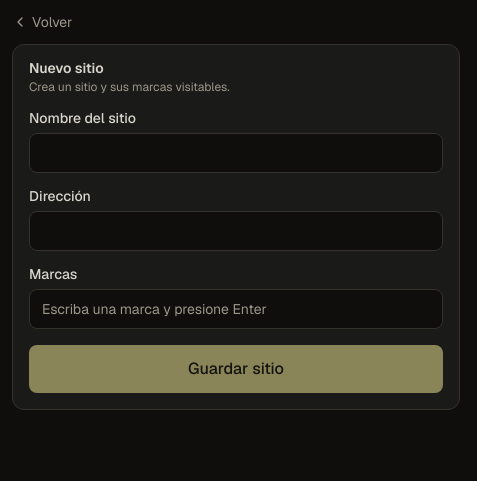
Test: CreateSiteForm › muestra el error devuelto por la acción
Type "Plaza Amara" into the field labelled "Nombre del sitio" at (236, 153), box [29,133,443,173]
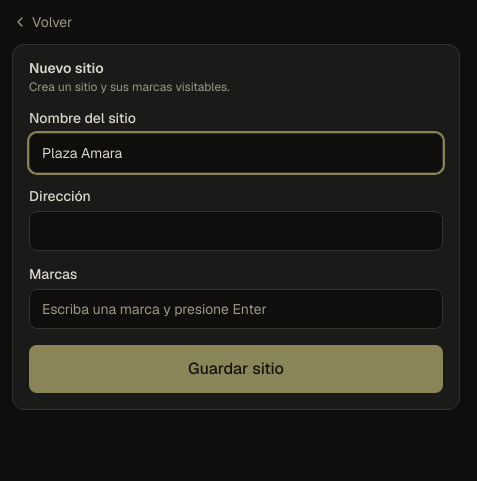
Type "San José" into the field labelled "Dirección" at (236, 231), box [29,211,443,251]
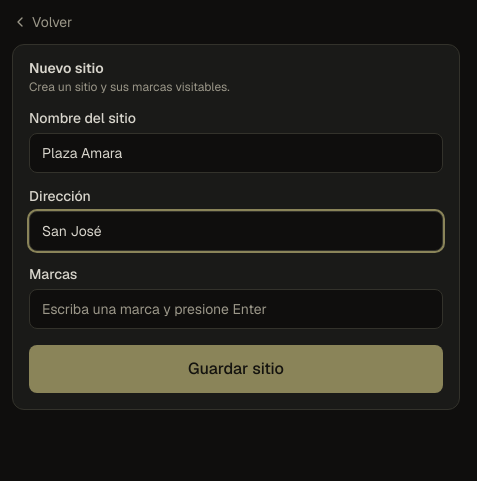
Click the button "Guardar sitio" at (236, 369), box [29,345,443,393]
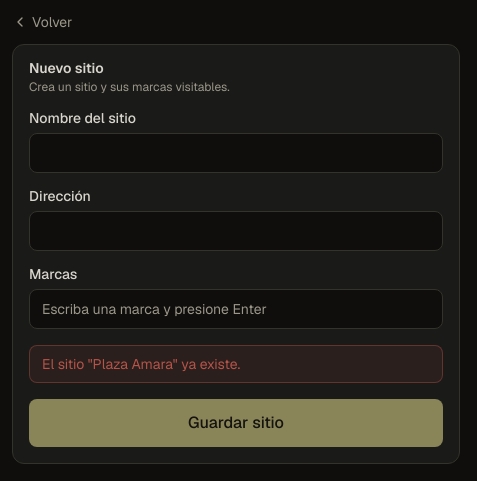
Expected: the message shows "ya existe", [42,355,240,373]
